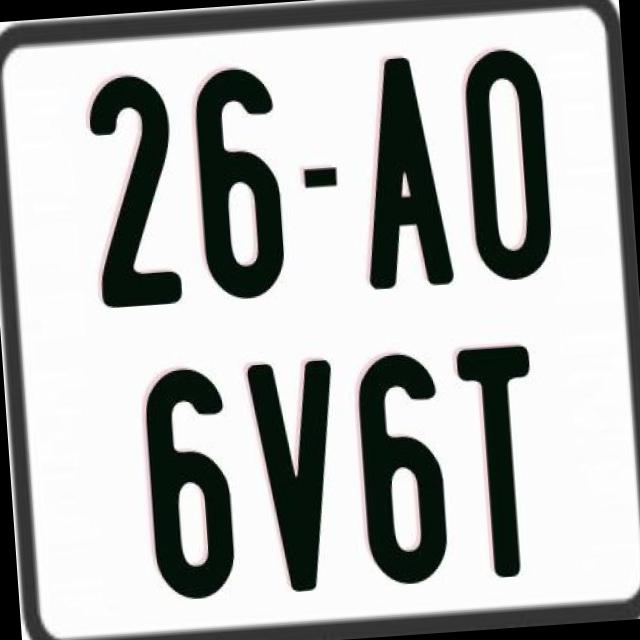0: (460, 45, 559, 285)
2: (85, 70, 189, 308)
6: (188, 62, 290, 301), (350, 348, 450, 591), (140, 360, 236, 606)
A: (352, 54, 460, 291)
T: (452, 340, 540, 574)
V: (244, 354, 350, 598)
